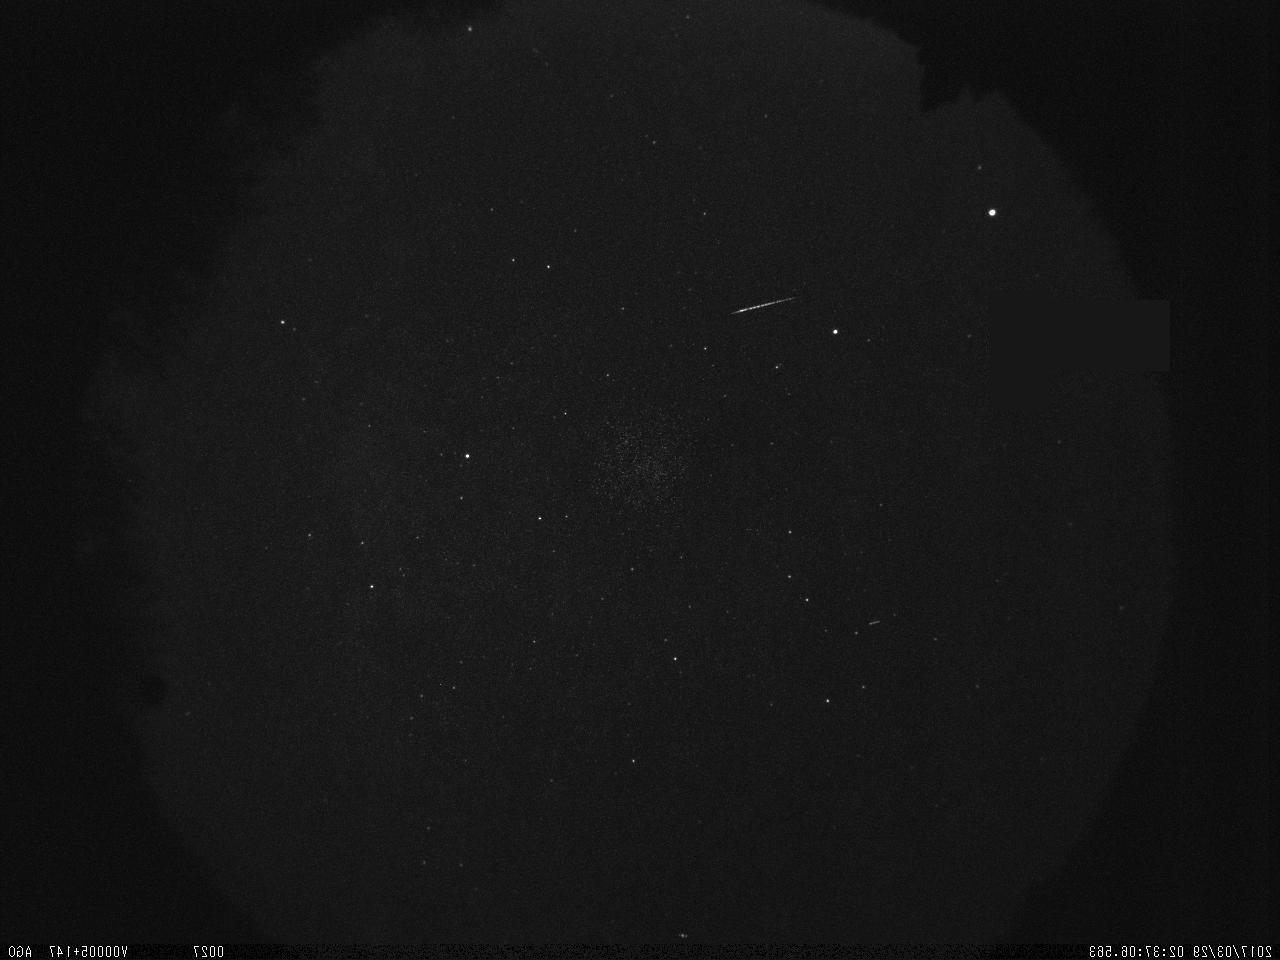meteor: (717, 282, 802, 331)
